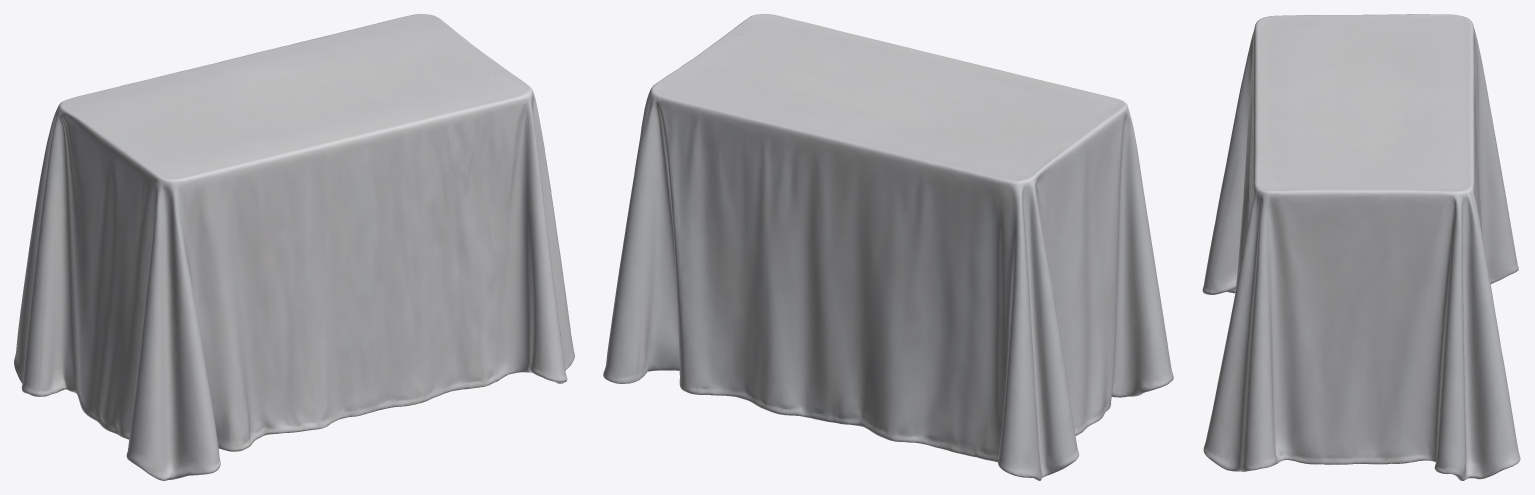
3 renders of one model, left to right at view 1: azimuth 30°, elevation 25°; view 2: azimuth 150°, elevation 25°; view 3: azimuth 270°, elevation 25°, orthographic. The views are drawn at different scales.
Visible parts, largest first — view 1: model; view 2: model; view 3: model.
Part boxes in pixels (box(x1,y1,x2,y2)): model: box(14, 14, 574, 480); model: box(603, 14, 1173, 480); model: box(1202, 14, 1520, 480).
Size of the model in its own units: 1.22 by 0.74 by 0.76.
1 material, 1 textured.
